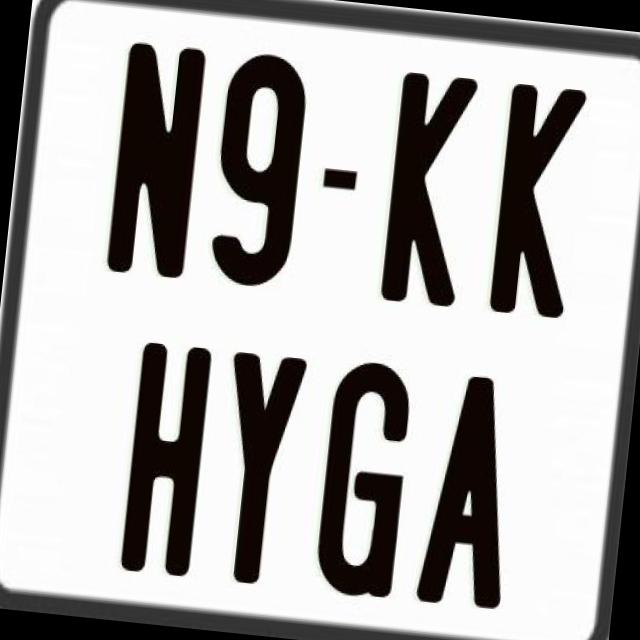9: (202, 46, 306, 288)
A: (414, 372, 526, 618)
G: (309, 354, 416, 596)
H: (120, 341, 213, 578)
K: (376, 70, 481, 312), (484, 82, 588, 320)
N: (104, 36, 205, 278)
Y: (205, 350, 307, 590)
